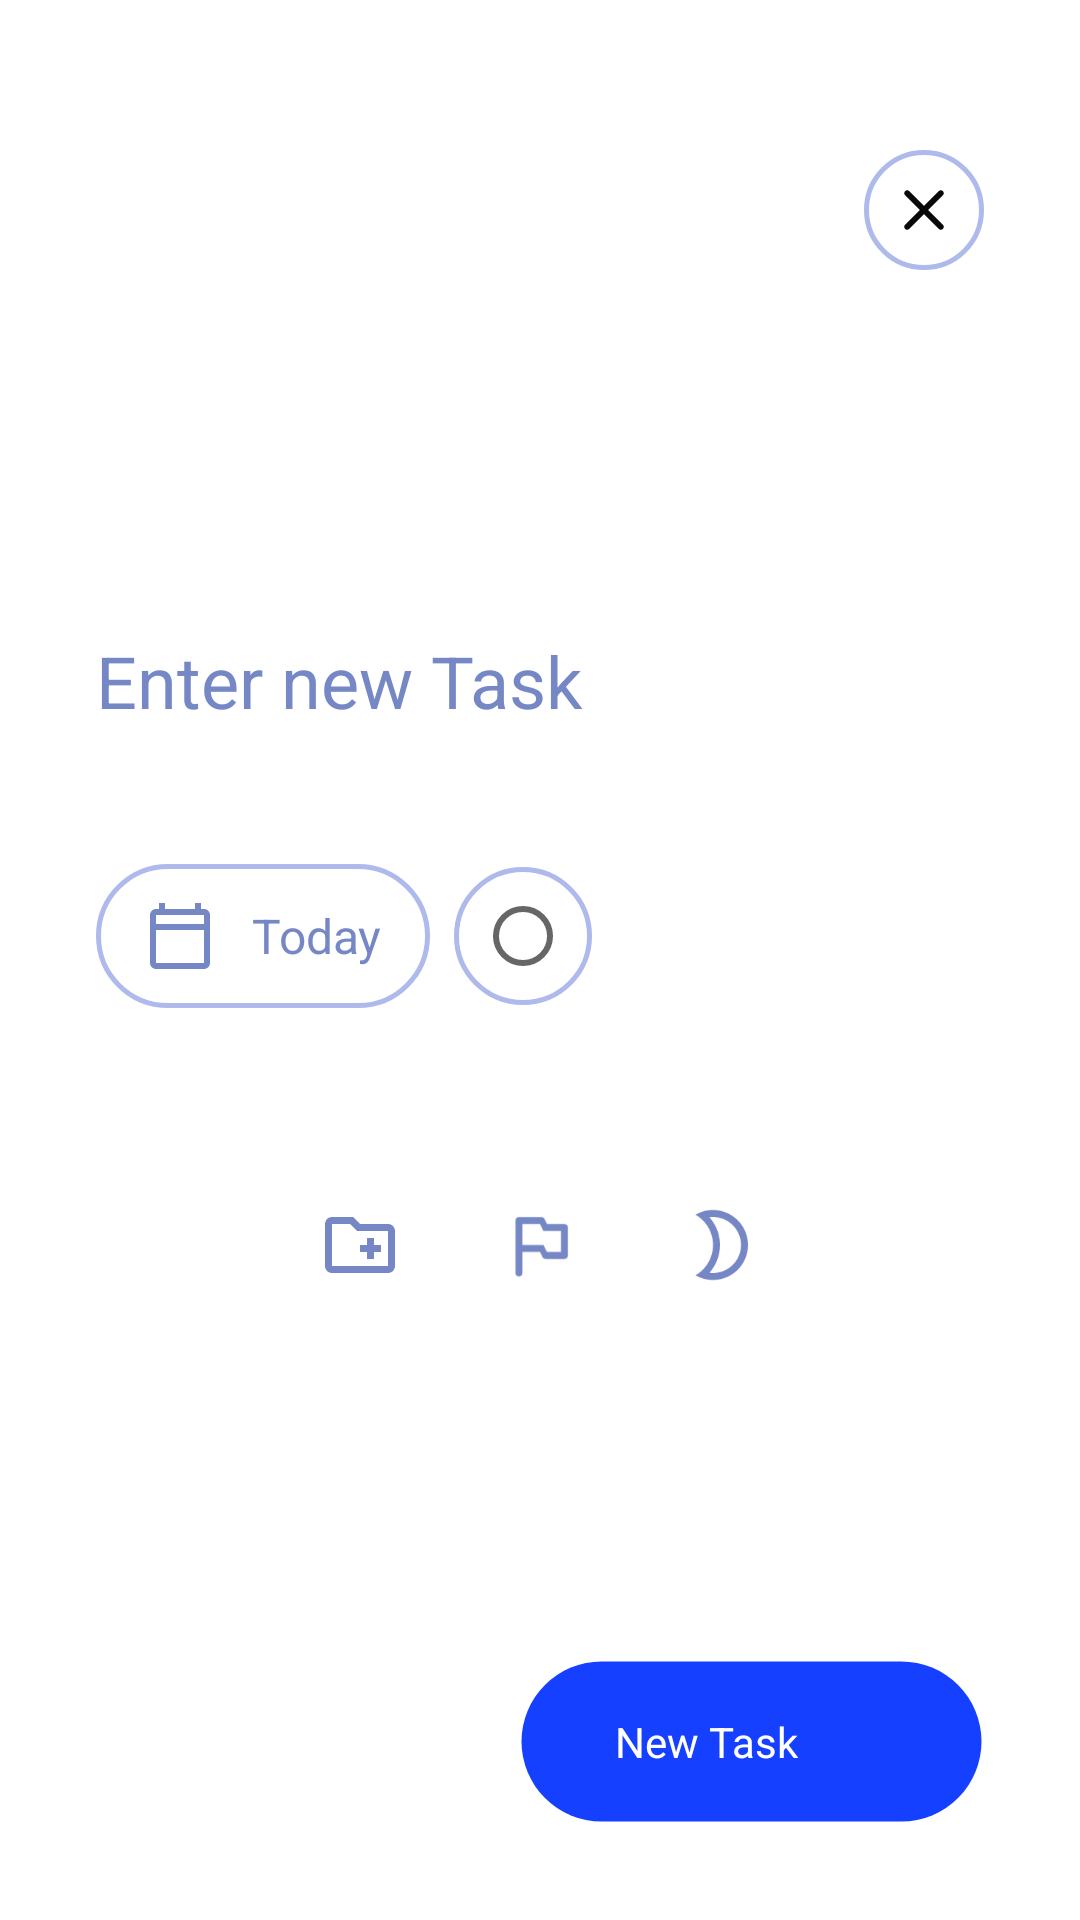

Icon bounding boxes for this 1080*1920 phone screenshot, format (x1, y1, x2, y2):
close: (864, 150, 984, 270)
create folder: (325, 1217, 395, 1273)
flag: (515, 1217, 568, 1277)
moon brightness: (696, 1210, 748, 1280)
